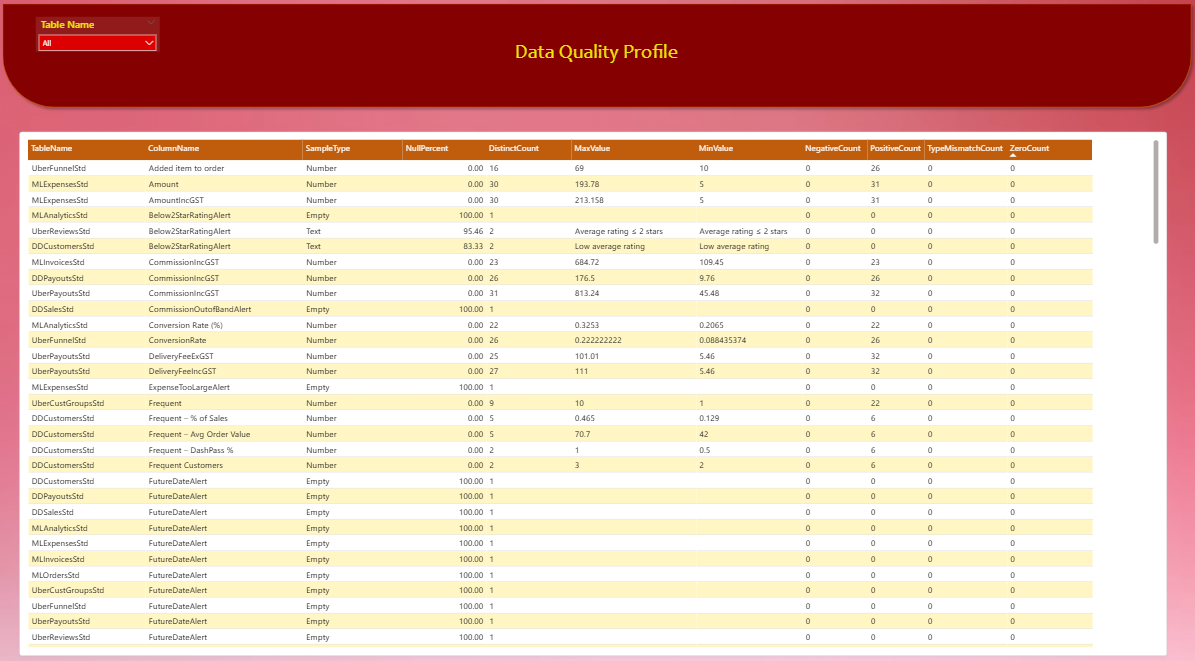

This screenshot's page, from the dashboard's own definition file:
{"tool":"powerbi","page":{"name":"Data Quality Profile","canvas":[1920,1080],"ordinal":5},"visuals":[{"type":"tableEx","fields":{"Values":["DQ_Profile_AllTables.TableName","DQ_Profile_AllTables.ColumnName","DQ_Profile_AllTables.SampleType","DQ_Profile_AllTables.NullPercent","DQ_Profile_AllTables.DistinctCount","DQ_Profile_AllTables.MaxValue","DQ_Profile_AllTables.MinValue","DQ_Profile_AllTables.NegativeCount","DQ_Profile_AllTables.PositiveCount","DQ_Profile_AllTables.TypeMismatchCount","DQ_Profile_AllTables.ZeroCount"]},"box":[36,214,1836,838],"z":0},{"type":"shape","box":[0,0,1920,184],"z":1000},{"type":"slicer","fields":{"Values":["DQ_Profile_AllTables.TableName"]},"box":[62,30,198,56],"z":6000},{"type":"textbox","box":[802,60,314,52],"z":7000}]}

Visuals, with their boxes in screenshot pixels (x1, y1, x2, y2), scaled from the page's 1920x1080 canvas onto the 1195x661 screenshot:
tableEx - DQ_Profile_AllTables.TableName x DQ_Profile_AllTables.ColumnName: rect(22, 131, 1165, 644)
shape: rect(0, 0, 1194, 113)
slicer - DQ_Profile_AllTables.TableName: rect(39, 18, 162, 53)
textbox: rect(499, 37, 695, 69)
